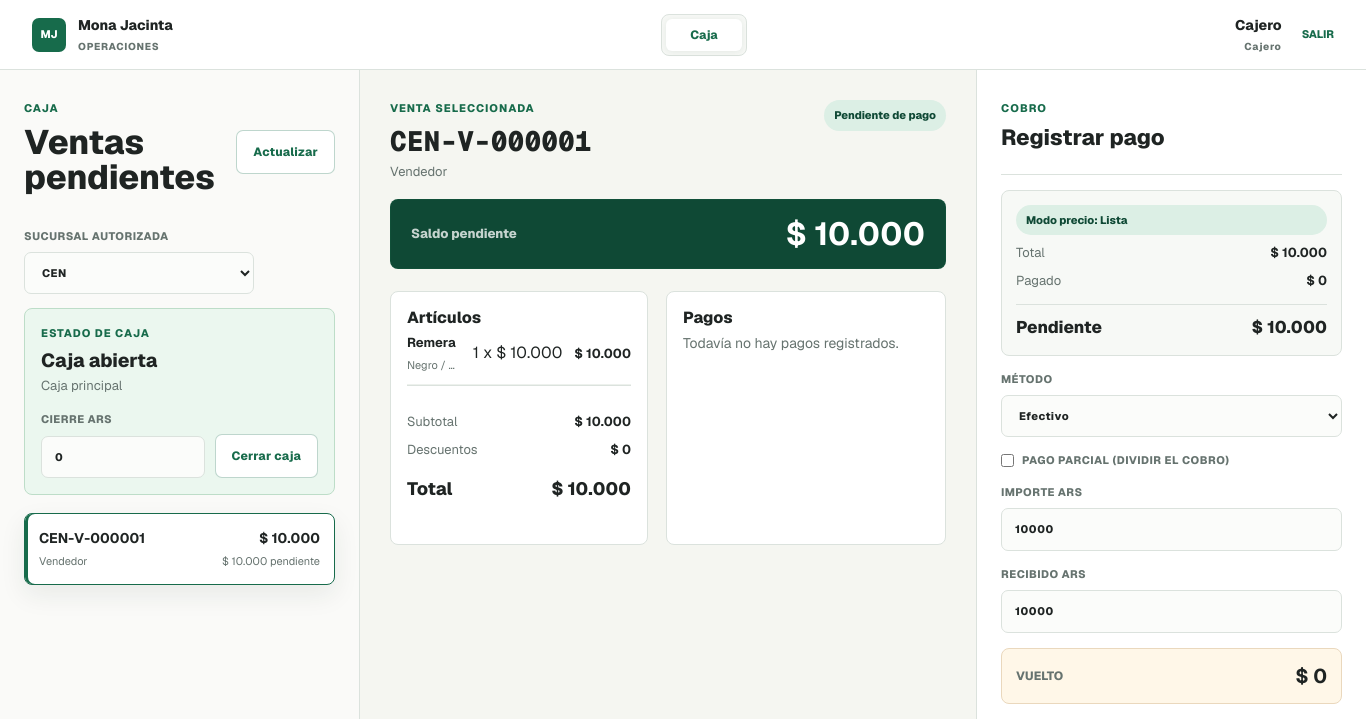
M1 malformed /sales/pending answers fail closed › A09 a network failure keeps the last valid queue and is not reported as an invalid answer
The image size is (1366, 719).
Expected: the heading "Ventas pendientes" is shown, [24,124,236,196]
Expected: the heading "CEN-V-000001" is shown, [390,124,592,157]
Click the button "Actualizar" at (286, 152), box [236,130,335,174]
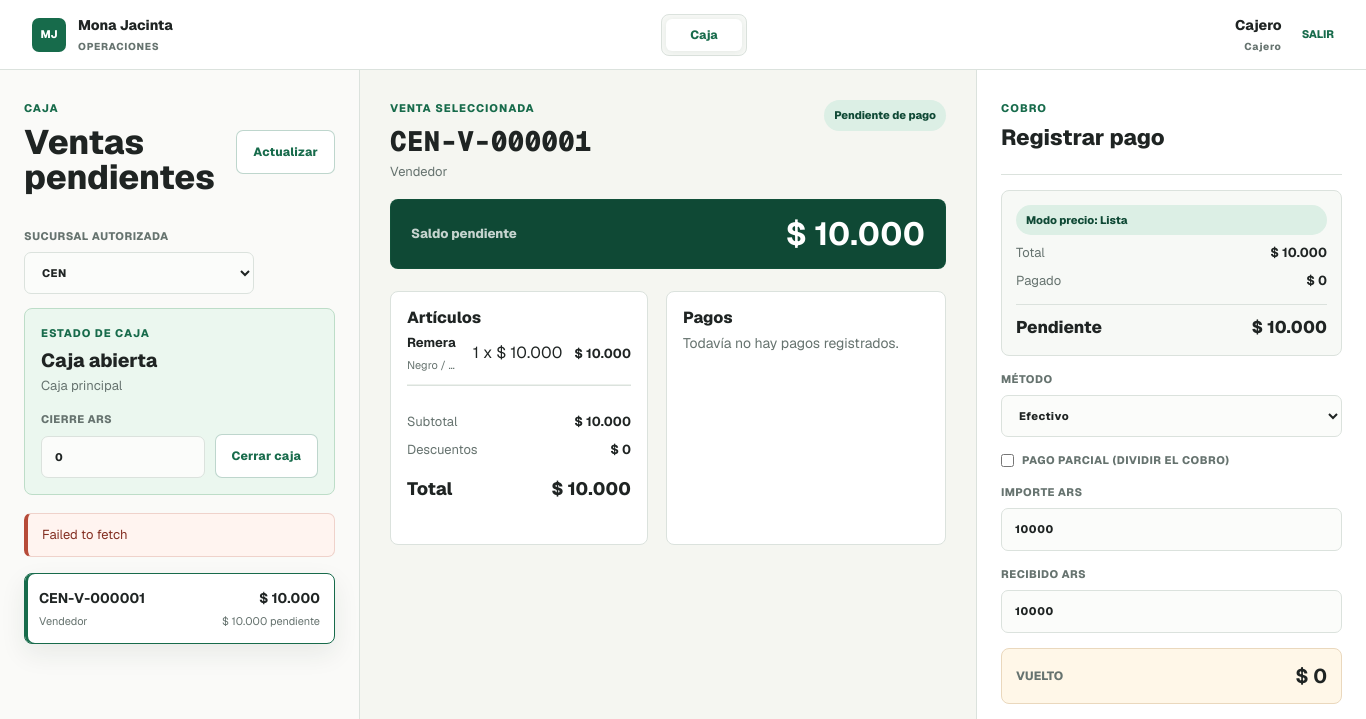
Expected: the heading "CEN-V-000001" is shown, [390,124,592,157]
Expected: the message with class "error-banner" reads "Failed to fetch", [42,526,128,543]
